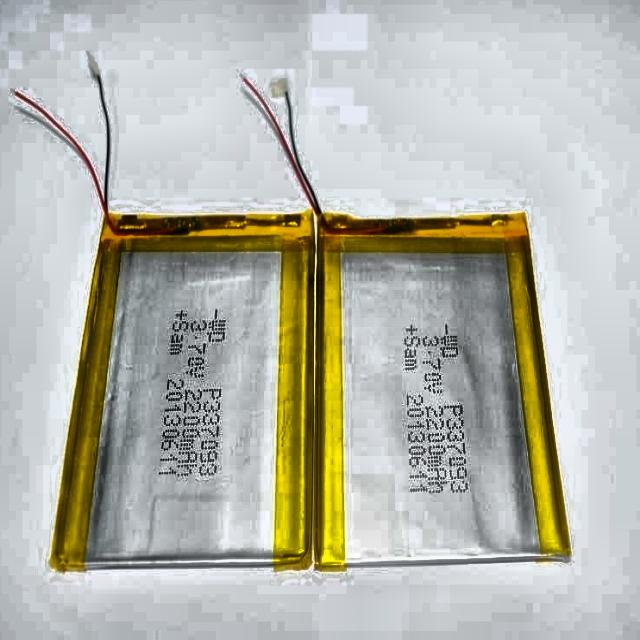Non-Valuable Waste - Batteries: (50, 213, 314, 570), (316, 213, 568, 569)
